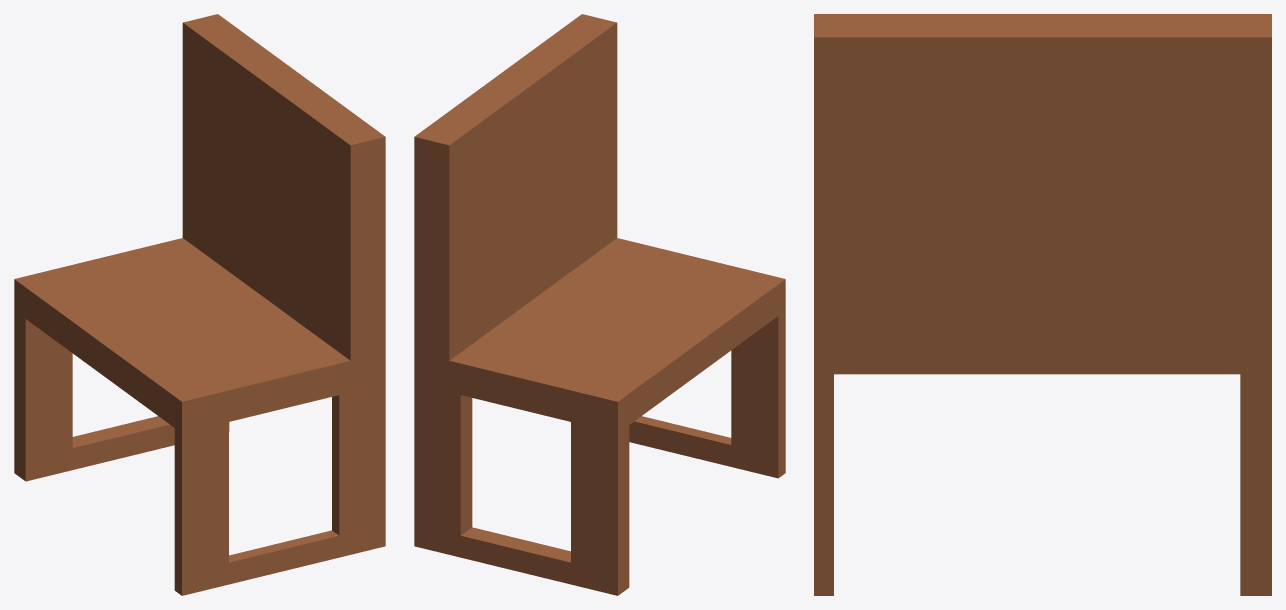
Rendered from chair.glb.
The picture shows the model from 3 angles, left to right: view 1: azimuth 30°, elevation 25°; view 2: azimuth 150°, elevation 25°; view 3: azimuth 270°, elevation 25°; orthographic projection. The views are drawn at different scales.
Visible parts, largest first — view 1: Chair; view 2: Chair; view 3: Chair.
Part boxes in pixels (box(x1,y1,x2,y2)): Chair: box(14, 14, 385, 595); Chair: box(414, 14, 785, 595); Chair: box(814, 14, 1271, 595).
Size of the model in its own units: 0.6733 by 1.29 by 0.9611.
